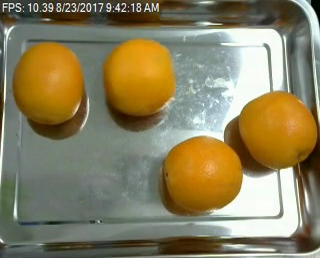Orange: (238, 89, 316, 168), (163, 136, 243, 212), (13, 42, 85, 123), (102, 39, 176, 115)
